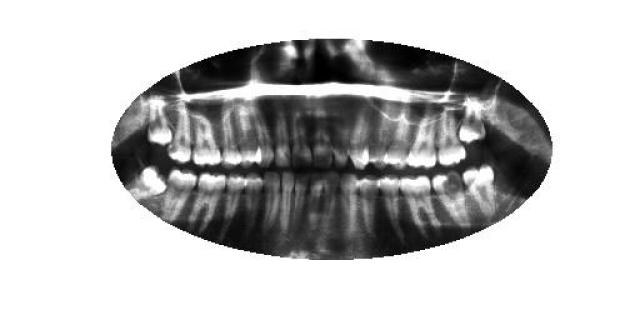Cavity: (432, 169, 468, 230)
Restorations: (146, 99, 174, 148), (128, 166, 168, 200), (459, 96, 486, 145)
